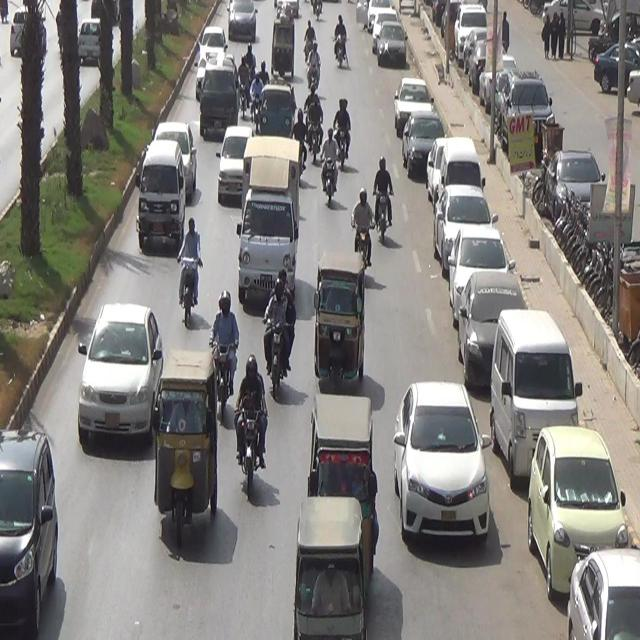car: (387, 376, 495, 554), (0, 426, 68, 640), (73, 295, 160, 449), (136, 139, 185, 248), (197, 56, 241, 134), (215, 120, 252, 198), (226, 0, 257, 36), (200, 18, 226, 53)
motorbike: (174, 215, 209, 333), (265, 275, 294, 404), (370, 143, 402, 250), (212, 277, 235, 414), (347, 181, 378, 273), (332, 90, 359, 178), (302, 83, 328, 170), (320, 122, 344, 205), (328, 9, 352, 72), (304, 45, 328, 100), (247, 45, 260, 94)
truck: (239, 132, 299, 299)
